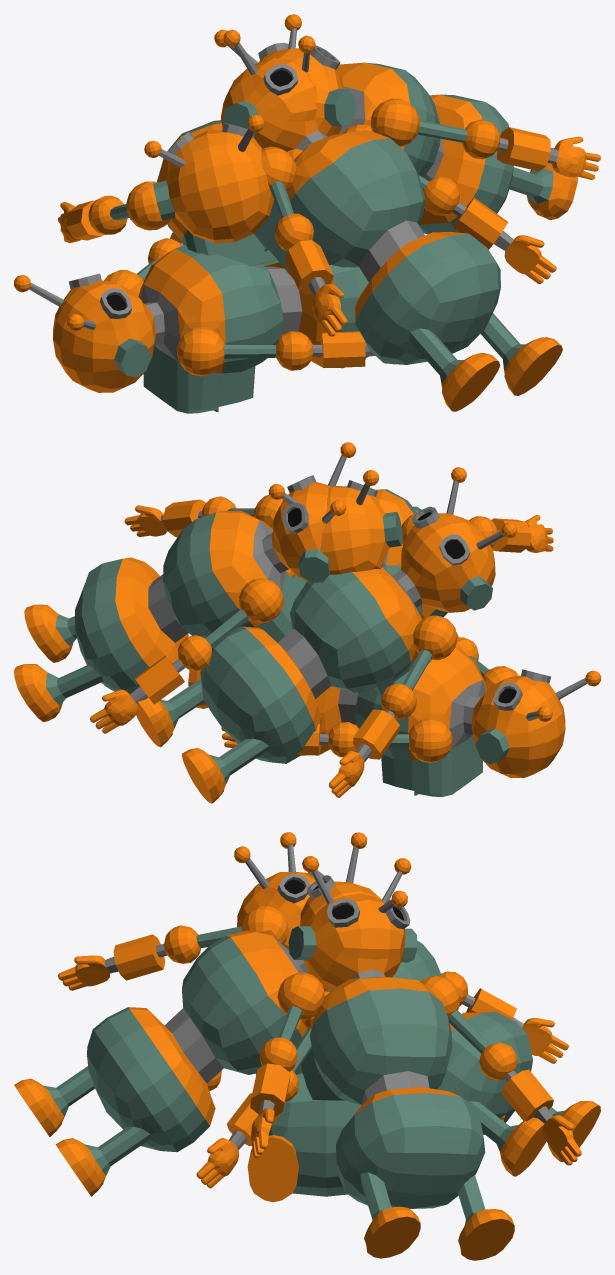
The model's file is Roboty.fbx.
The picture shows the model from 3 angles, top to bottom: view 1: azimuth 30°, elevation 25°; view 2: azimuth 150°, elevation 25°; view 3: azimuth 270°, elevation 25°; orthographic projection. The views are drawn at different scales.
Parts seen in each view (by area): view 1: Cube.004; view 2: Cube.004; view 3: Cube.004.
Boxes of the visible parts, <box> form: Cube.004: <box>14,14,600,413</box>; Cube.004: <box>14,442,600,803</box>; Cube.004: <box>14,832,600,1260</box>.
Size of the model in its own units: 323 by 185 by 299.
